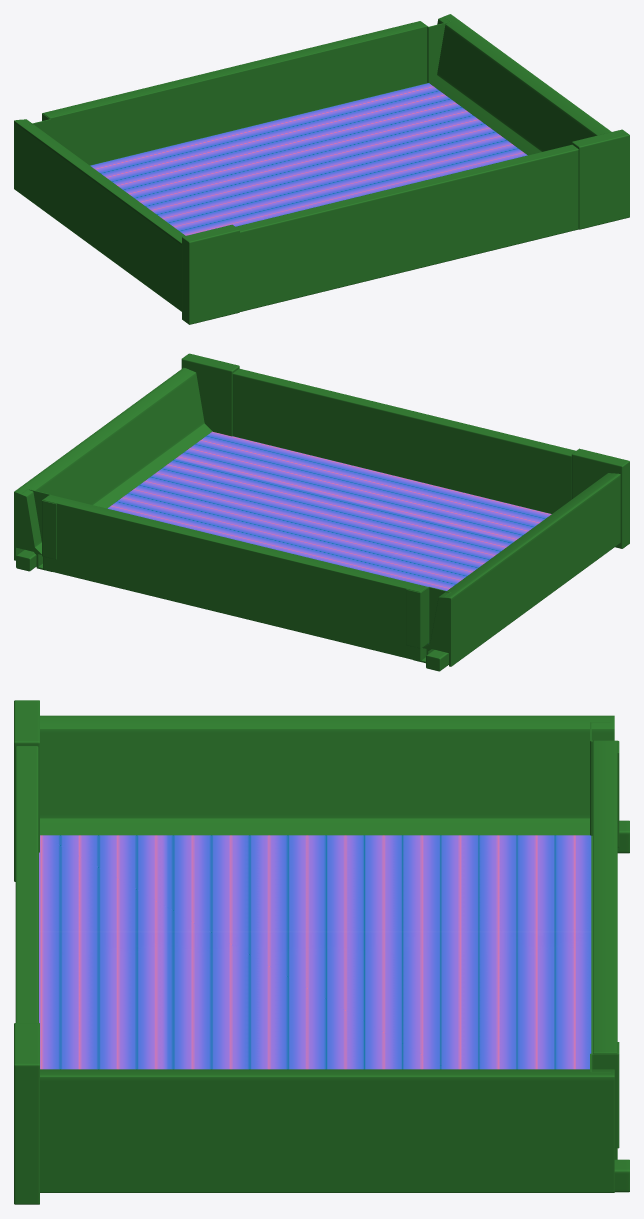
Rendered from SM_Kitchen_08_Sink_Drawer_02.fbx.
3 renders of one model, top to bottom at view 1: azimuth 30°, elevation 25°; view 2: azimuth 150°, elevation 25°; view 3: azimuth 270°, elevation 25°, orthographic. The views are drawn at different scales.
Visible parts, largest first — view 1: SM_Kitchen_08_Sink_Drawer_02; view 2: SM_Kitchen_08_Sink_Drawer_02; view 3: SM_Kitchen_08_Sink_Drawer_02.
Boxes of the visible parts, box(x1,y1,x2,y2) form: SM_Kitchen_08_Sink_Drawer_02: box(14, 14, 629, 324); SM_Kitchen_08_Sink_Drawer_02: box(14, 353, 629, 671); SM_Kitchen_08_Sink_Drawer_02: box(14, 700, 629, 1204).
Size of the model in its own units: 56.19 by 10.1 by 40.1.
2 materials, 1 textured.
